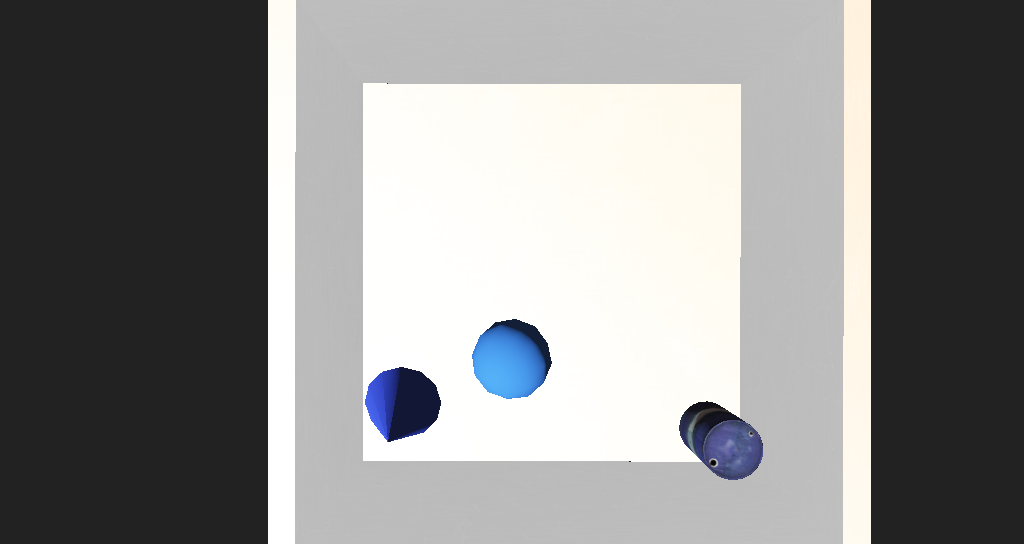cone: (610, 341, 670, 384)
cylinder: (347, 322, 421, 384)
sphere: (438, 291, 505, 339)
